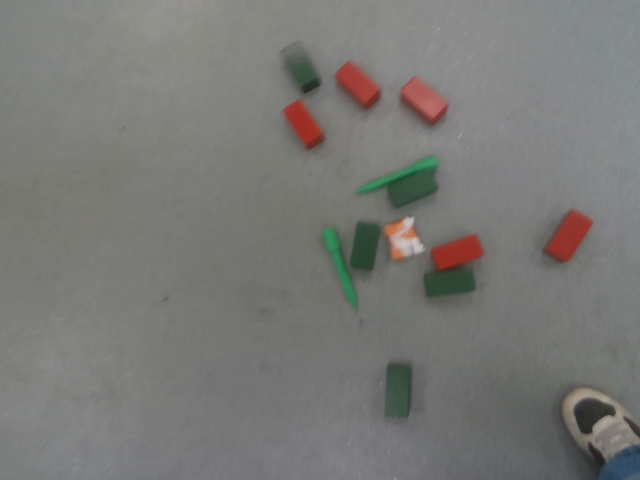Probe: (354, 152, 439, 196), (319, 226, 361, 313)
